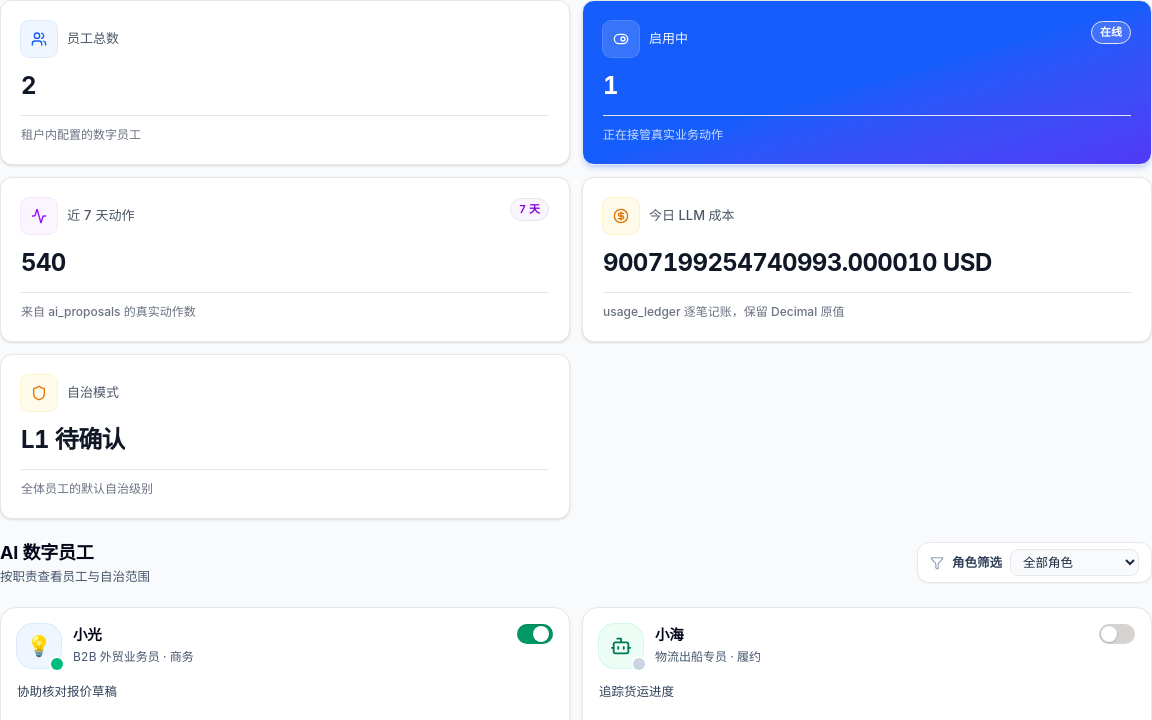
Test: AI workforce › filters by role, opens employee details, and delegates enable changes
The image size is (1152, 720).
Later steps or results of the test are not shown.
Step 1. Select "物流出船专员" in the dropdown labelled "角色筛选" → (1074, 563), box [1010,549,1139,576]
(page scrolled)
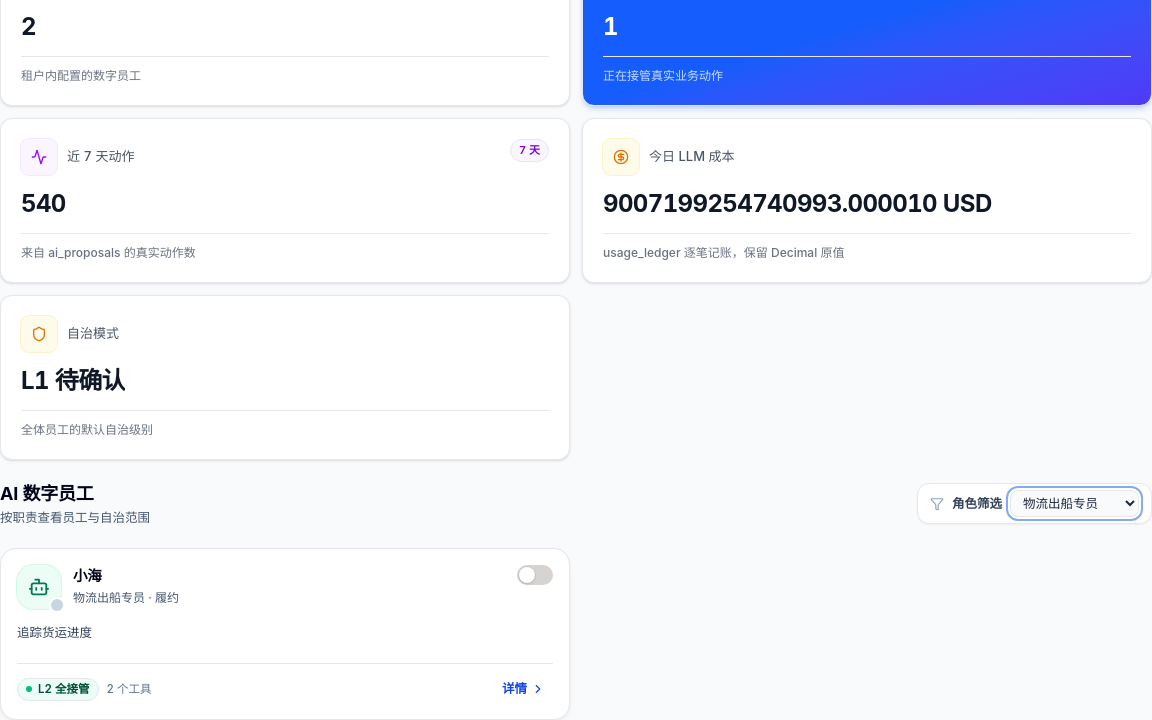
Now the heading "小光" is gone
Step 2. Click the button with aria-label "查看小海详情" → (524, 689), box [494,676,553,703]
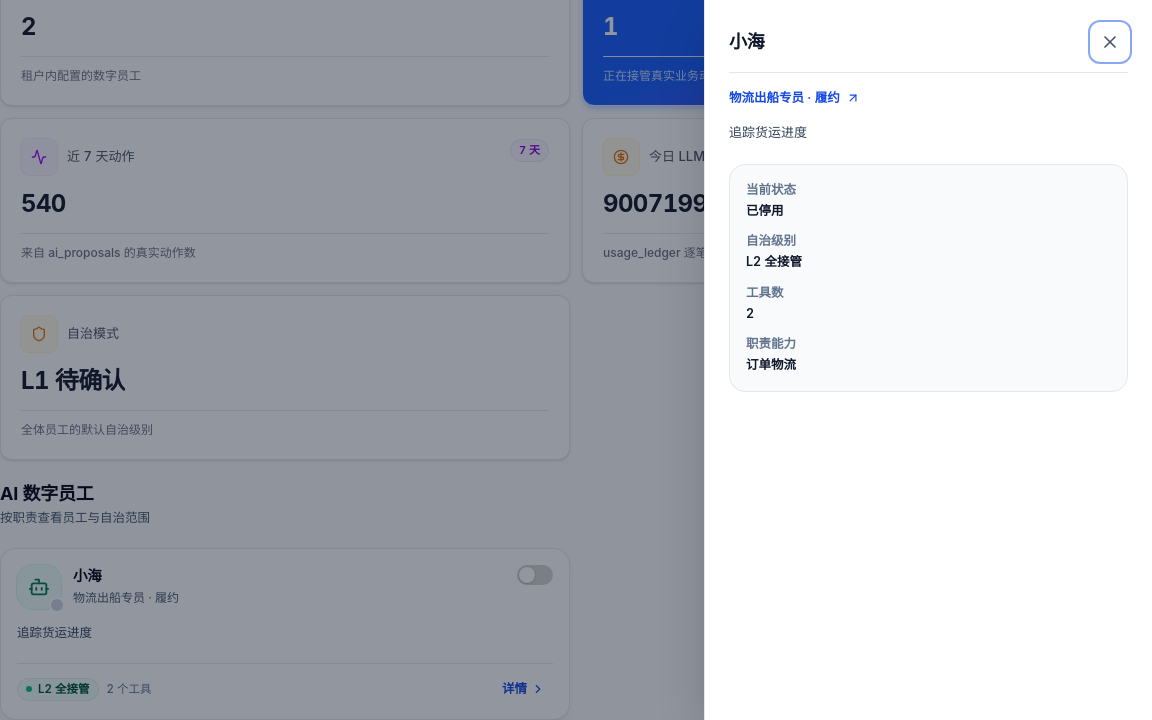
Now the text "追踪货运进度" is shown, box [729,124,807,140]
